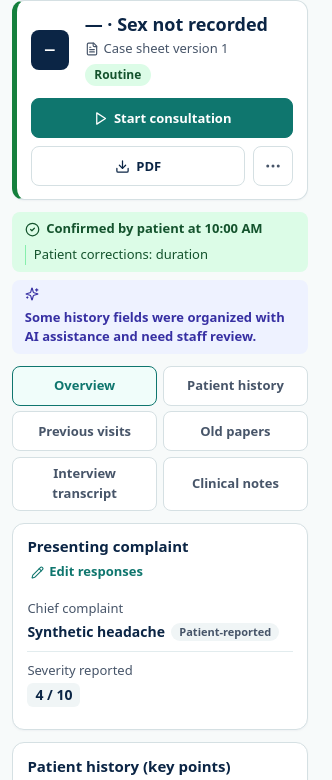
Phase 7.4 doctor consultation › explains that earlier visits close with the visit
The width and height of the screenshot is (332, 780).
Click the tab "Previous visits" at {"x": 85, "y": 431}, box x1=12 y1=411 x2=157 y2=451
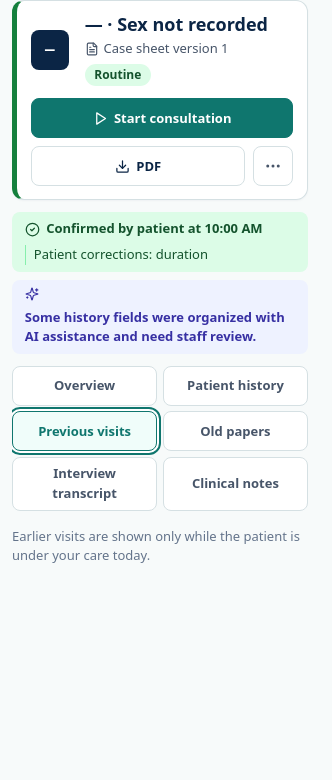
Expected: the text "Earlier visits are shown only while the patient is under your care today." is shown, x1=12 y1=527 x2=308 y2=566
